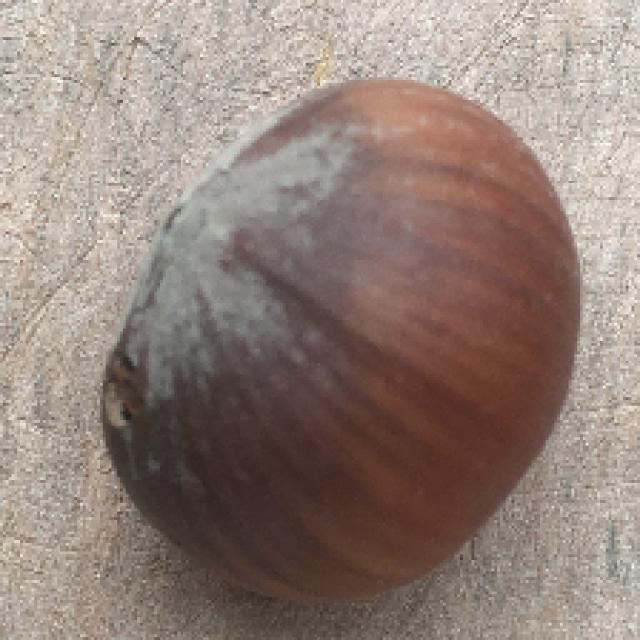damagedHazelnut: (103, 75, 572, 614)
